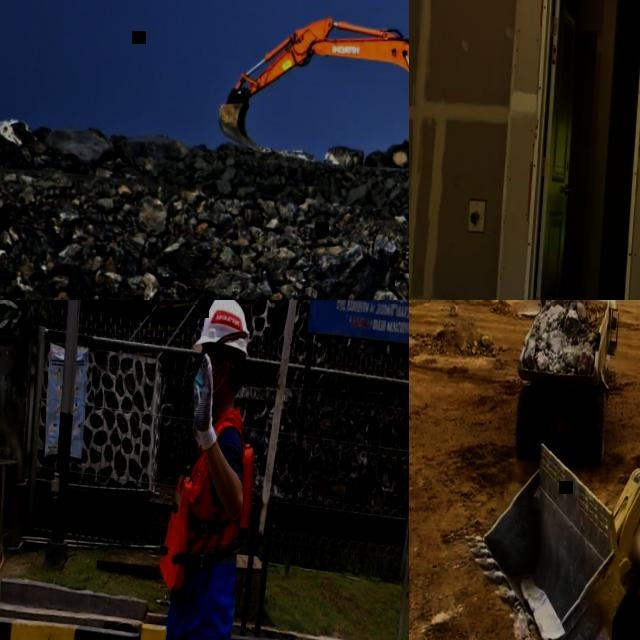Hardhat: (188, 300, 250, 360)
Mask: (189, 361, 224, 400)
Person: (143, 300, 270, 640)
Safety Vest: (154, 434, 259, 598)
machinery: (468, 328, 640, 640), (213, 9, 409, 180), (503, 300, 621, 475)
